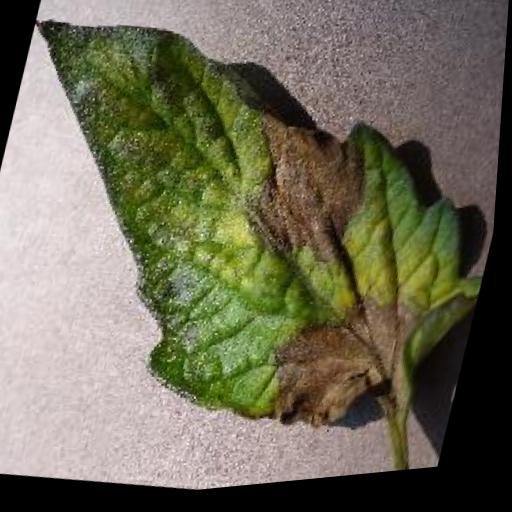Late Blight: (0, 0, 511, 483)
